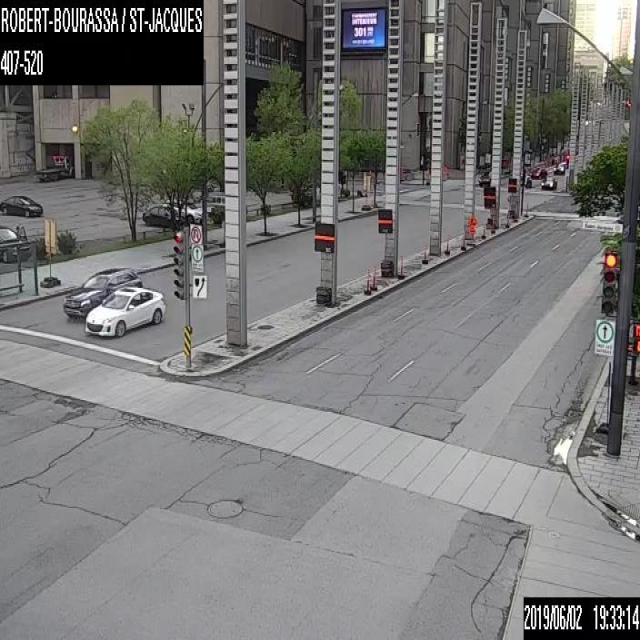construction: (466, 213, 479, 243), (400, 262, 404, 274), (366, 277, 369, 291), (372, 273, 375, 287), (423, 247, 426, 260), (462, 236, 465, 247), (491, 220, 494, 231), (506, 213, 509, 224), (482, 225, 485, 235), (525, 203, 528, 213), (446, 241, 449, 251), (514, 211, 517, 220)
vehicle: (83, 284, 167, 336), (62, 266, 143, 318), (142, 201, 186, 230), (0, 223, 31, 261), (162, 198, 206, 222), (35, 152, 73, 179), (0, 193, 43, 215), (206, 193, 224, 215), (477, 166, 491, 186), (540, 176, 556, 190), (530, 166, 548, 178), (553, 162, 568, 174)
